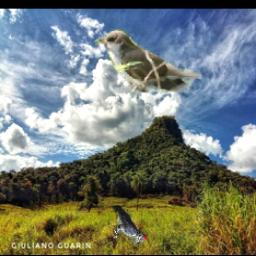Cuckoo: (96, 29, 202, 92)
Woodpecker: (114, 206, 148, 244)
